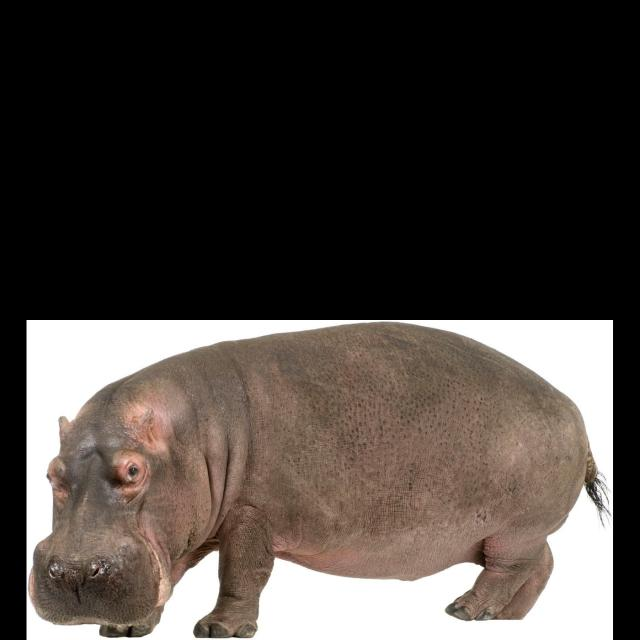hippopotamus: (28, 323, 604, 638)
